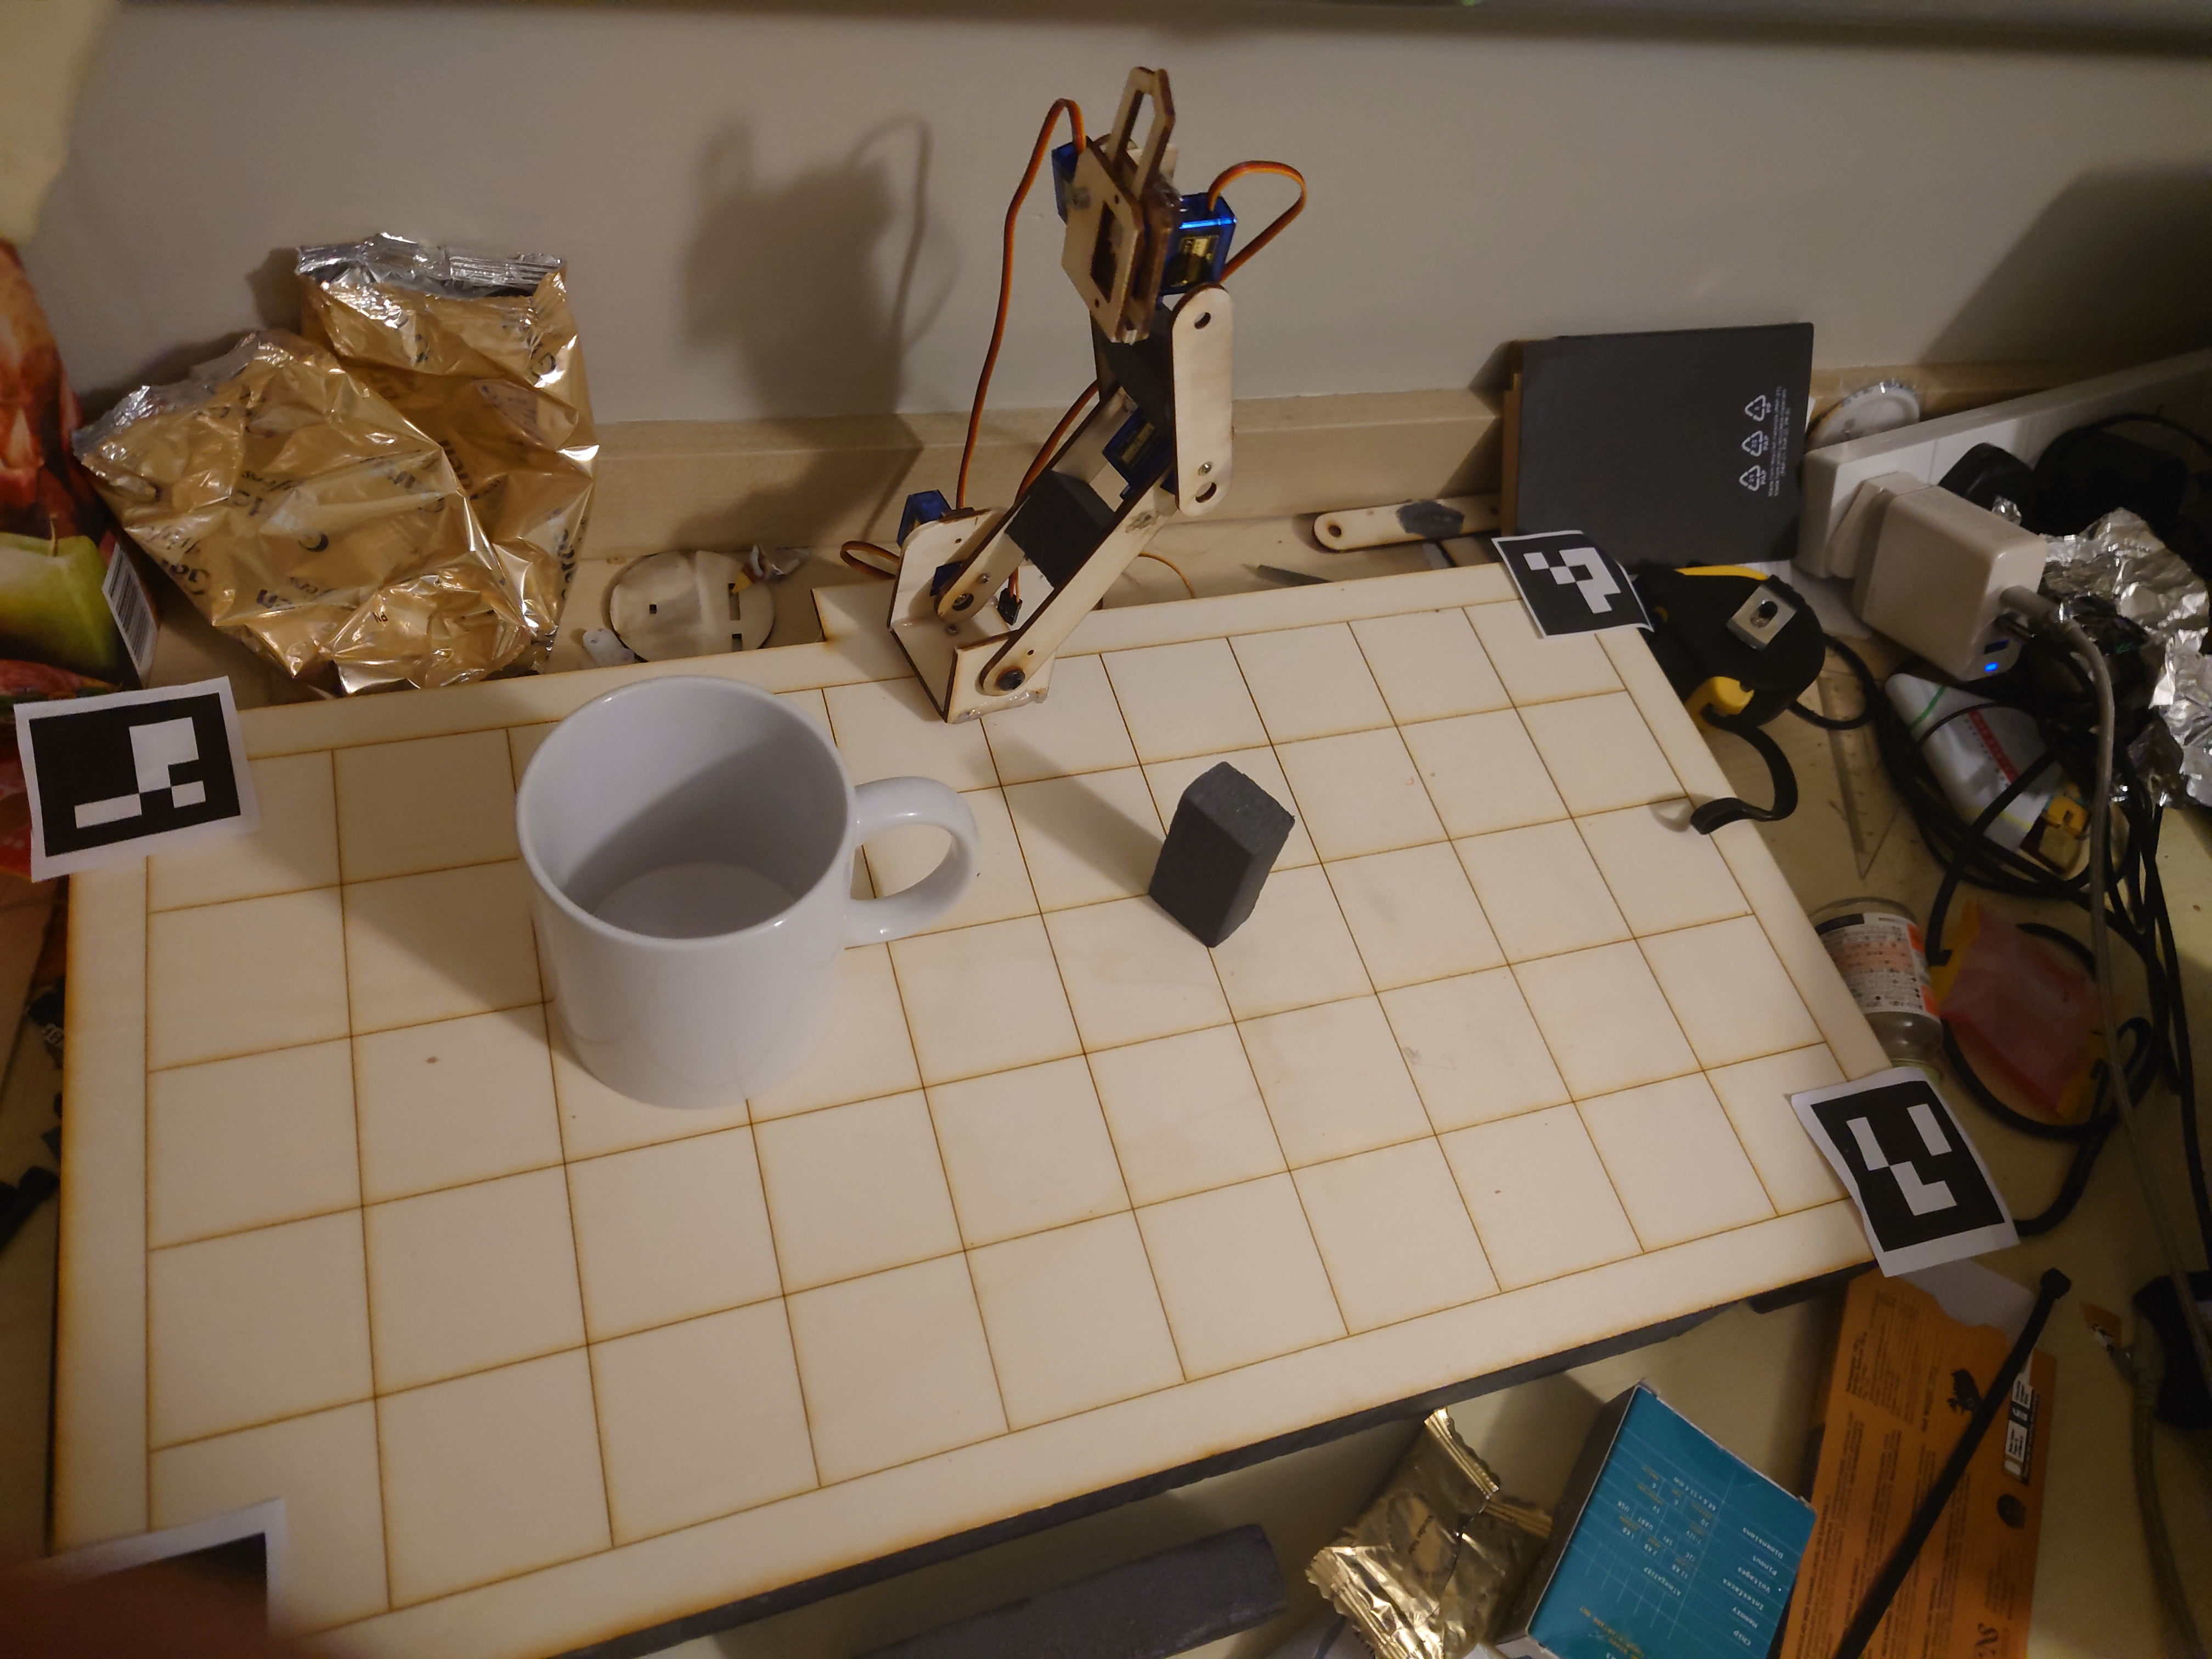target: (510, 667, 986, 1117), (1136, 760, 1299, 960)
